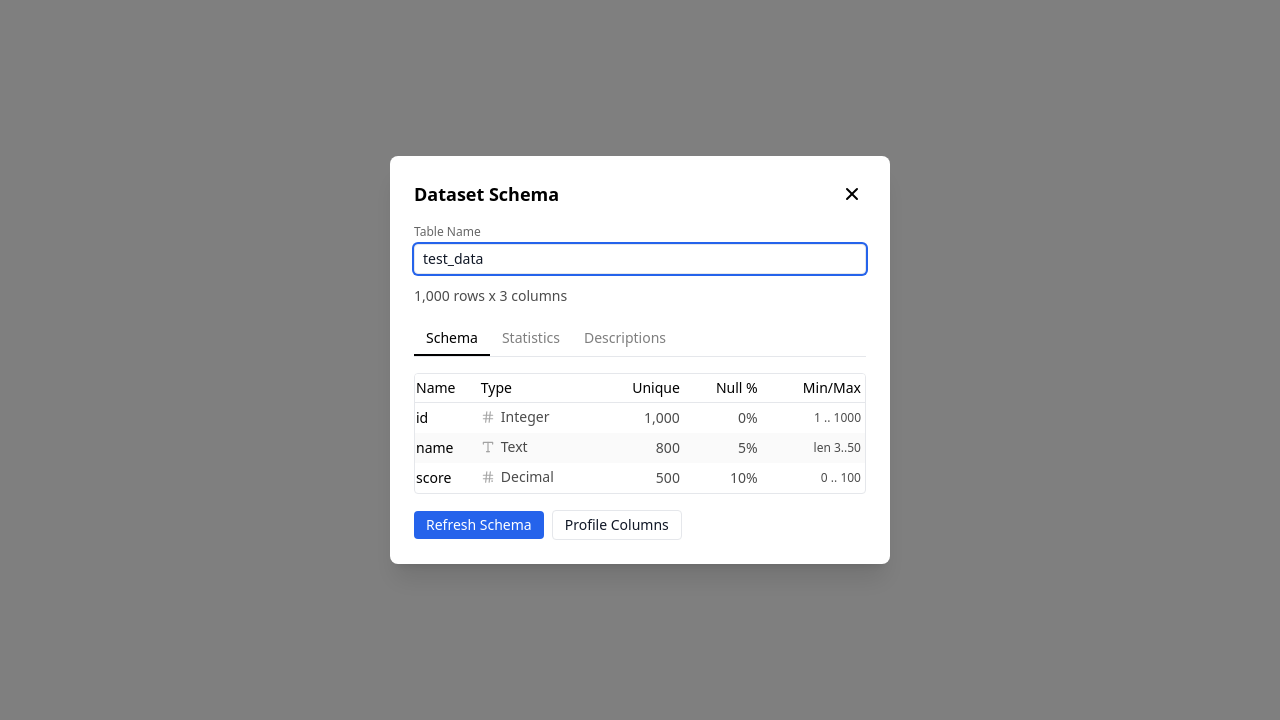
Test case: SM-STATS-BAR-1: Stat bars render with correct widths › renders stat cards for each profiled column
Click the button with test id "schema-tab-stats": (531, 339) top-left (490, 322), bottom-right (572, 356)
(page scrolled)
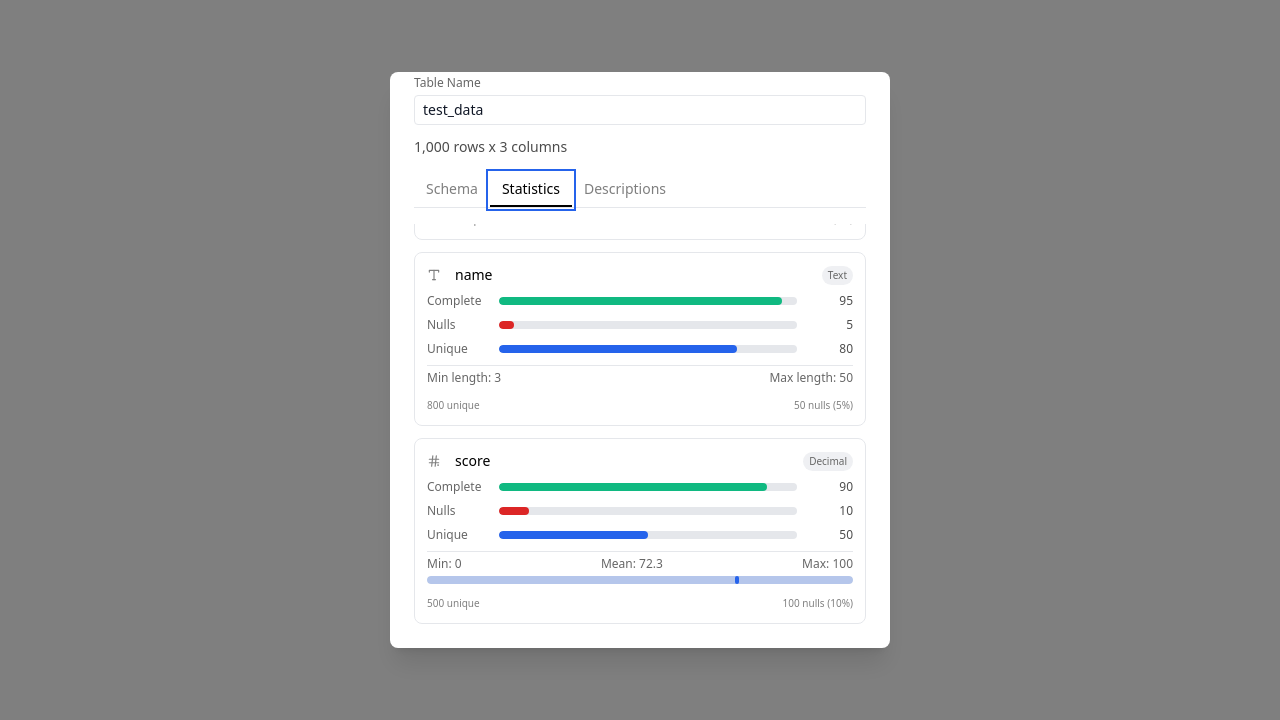
Check: the element with test id "stats-card-list" is shown, box top-left (414, 224), bottom-right (866, 624)
Check: the element with test id "stat-card-name" is shown, box top-left (414, 252), bottom-right (866, 426)
Check: the element with test id "stat-card-score" is shown, box top-left (414, 438), bottom-right (866, 624)
